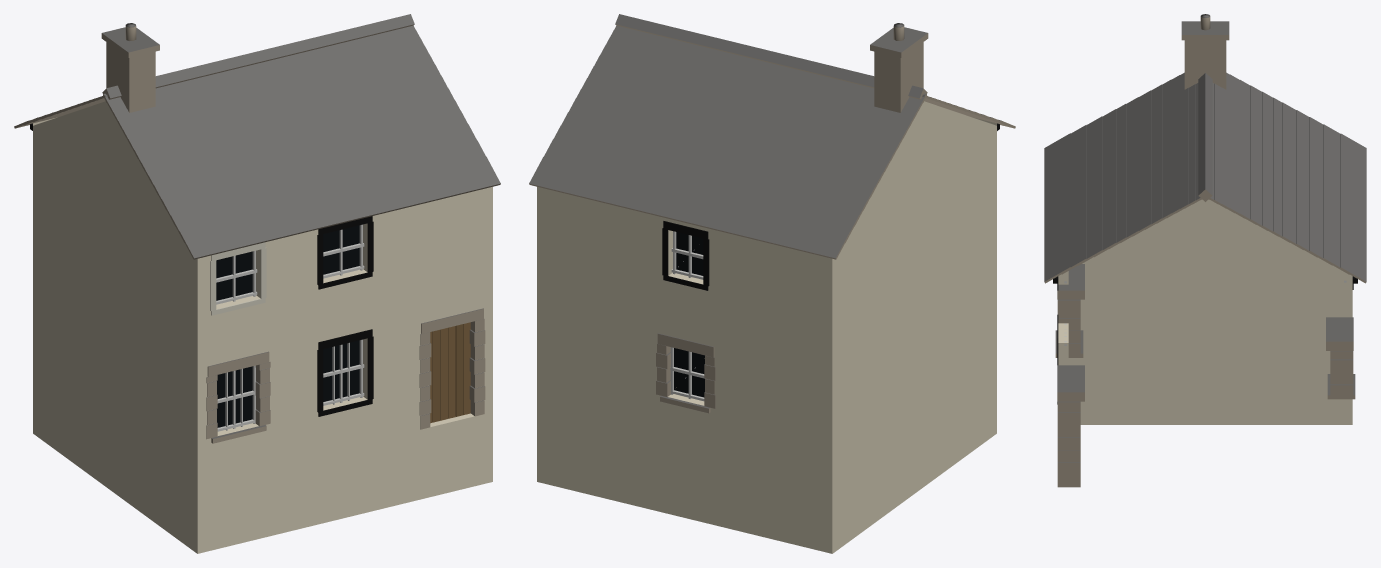
File: context.dales.house_02.glb
The picture shows the model from 3 angles, left to right: view 1: azimuth 30°, elevation 25°; view 2: azimuth 150°, elevation 25°; view 3: azimuth 270°, elevation 25°; orthographic projection. The views are drawn at different scales.
Parts seen in each view (by area): view 1: main__render_dcb, main__slate_666, main__stone_a98, main__glass_dark, main__paint_ccc, main__rubber, main__paint_764, main__paint_ccb, main__paint_753, main__paint_754; view 2: main__render_dcb, main__slate_666, main__stone_a98, main__glass_dark, main__rubber, main__paint_ccc; view 3: main__render_dcb, main__slate_666, main__stone_a98.
Part boxes in pixels (bbox=[...]): main__render_dcb: bbox=[33, 101, 492, 553]; main__slate_666: bbox=[28, 14, 500, 438]; main__stone_a98: bbox=[14, 24, 500, 443]; main__glass_dark: bbox=[216, 225, 359, 427]; main__paint_ccc: bbox=[216, 224, 364, 431]; main__rubber: bbox=[30, 123, 373, 416]; main__paint_764: bbox=[430, 322, 470, 423]; main__paint_ccb: bbox=[210, 242, 266, 315]; main__paint_753: bbox=[455, 324, 463, 416]; main__paint_754: bbox=[432, 330, 440, 422]; main__render_dcb: bbox=[537, 101, 996, 553]; main__slate_666: bbox=[529, 14, 1001, 408]; main__stone_a98: bbox=[529, 24, 1015, 413]; main__glass_dark: bbox=[674, 232, 704, 397]; main__rubber: bbox=[662, 123, 999, 290]; main__paint_ccc: bbox=[670, 231, 704, 401]; main__render_dcb: bbox=[1058, 199, 1352, 424]; main__slate_666: bbox=[1044, 14, 1366, 462]; main__stone_a98: bbox=[1044, 16, 1366, 487].
Bounding box in the file's own units: 6.88 × 9.96 × 7.
